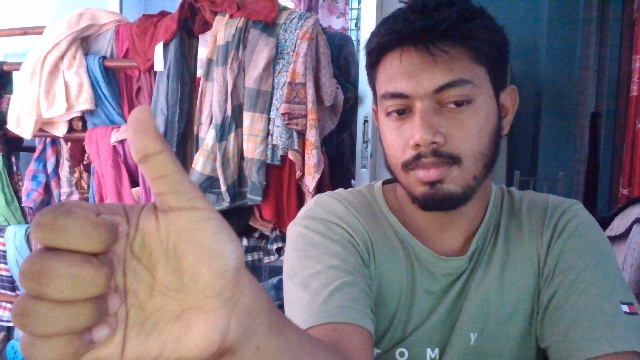yes: (17, 101, 249, 360)
